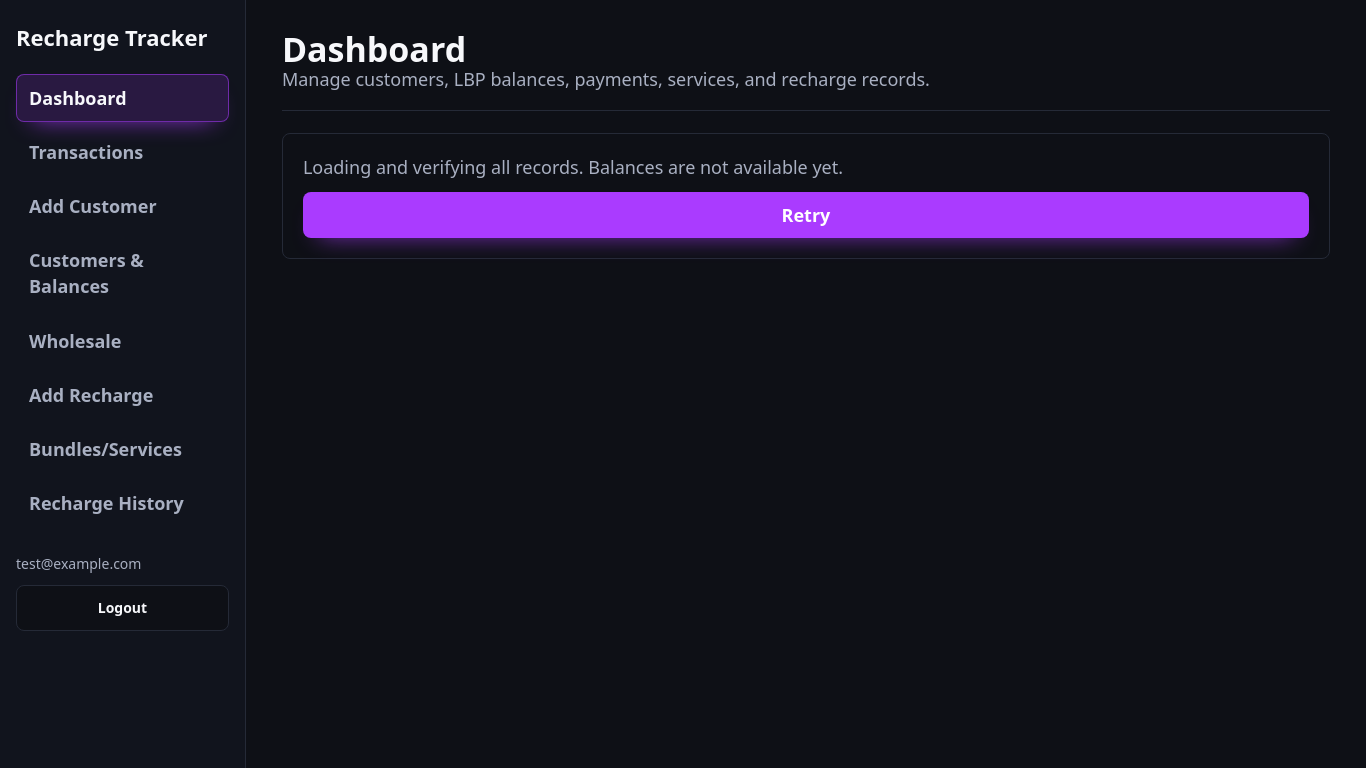
ledger availability in the actual app › does not repopulate the UI when an old request completes after logout
Check: the message "Loading and verifying all records. Balances are not available yet. Retry" is shown, box [282, 133, 1330, 259]
What coordinates should you click on to do the following:
click the button "Logout"
I would click on:
 (122, 608)
Its box is [16, 585, 229, 631].
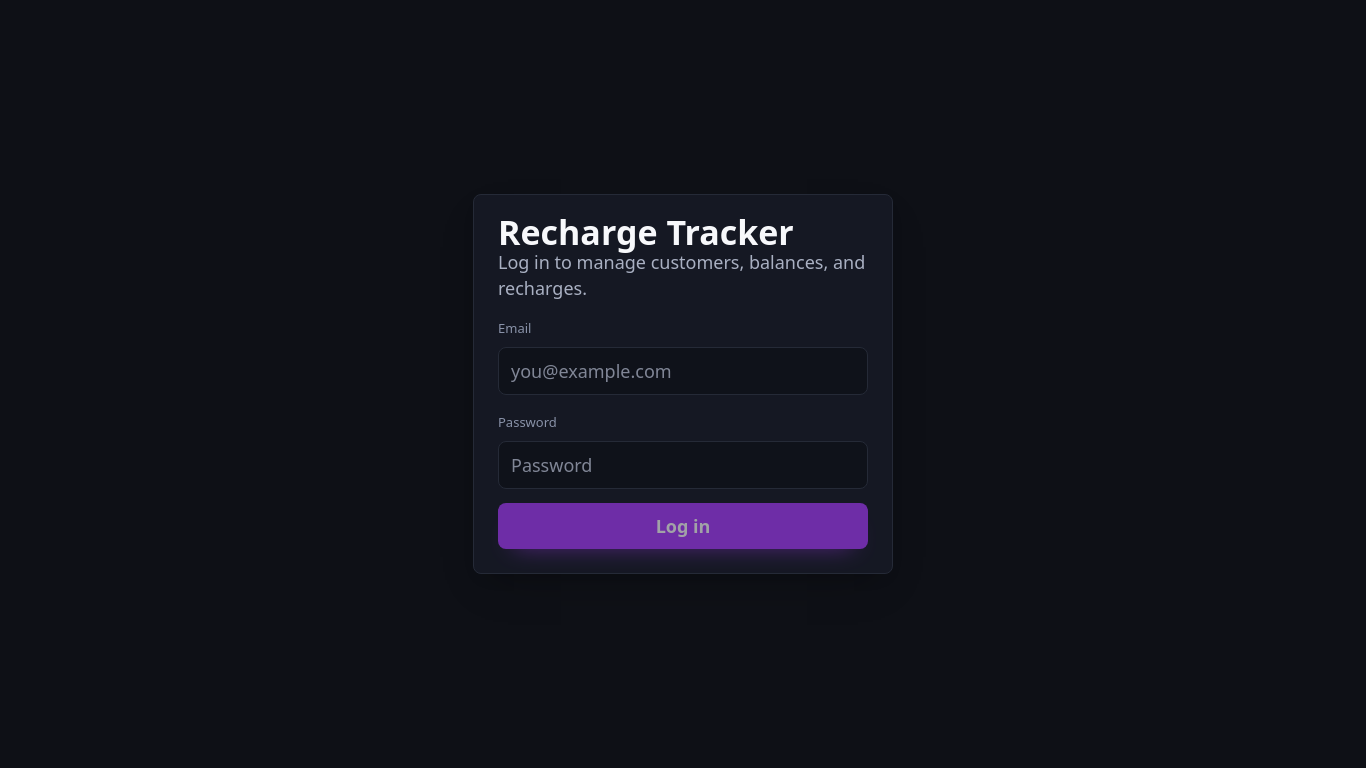
Check: the button "Log in" is shown, box [498, 503, 868, 549]
